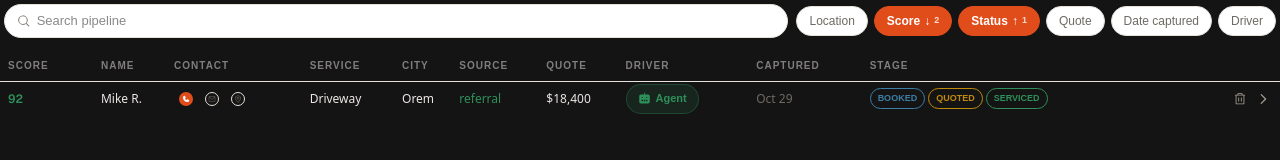
Scenario: LeadsTable contact dots › tapping a filled dot reveals the value; an empty dot is not clickable
Click the button with test id "contact-dots-l1-phone" at (186, 98), box top-left (174, 86), bottom-right (198, 110)
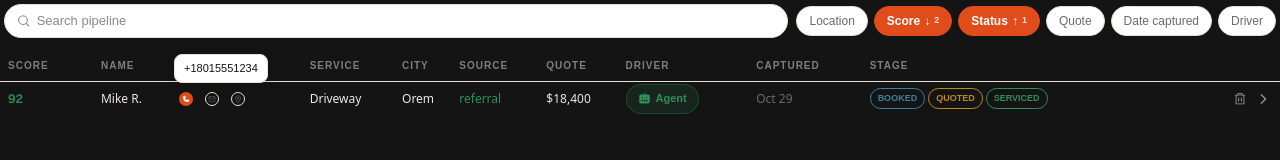
Expected: the button with test id "contact-dots-l1-email" is disabled, top-left (200, 86), bottom-right (224, 110)
Now the tooltip with test id "contact-dots-l1-popover" reads "+18015551234", box top-left (184, 62), bottom-right (258, 74)
